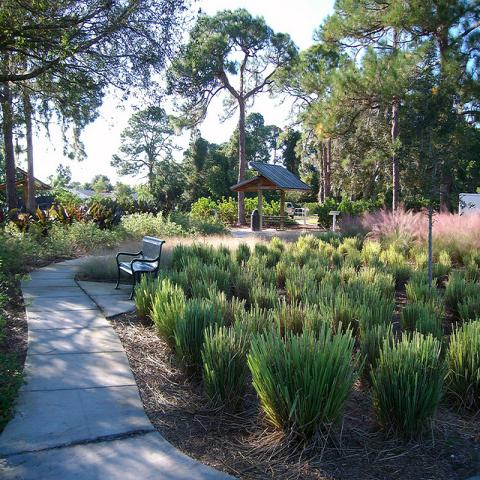car: (286, 202, 304, 214)
